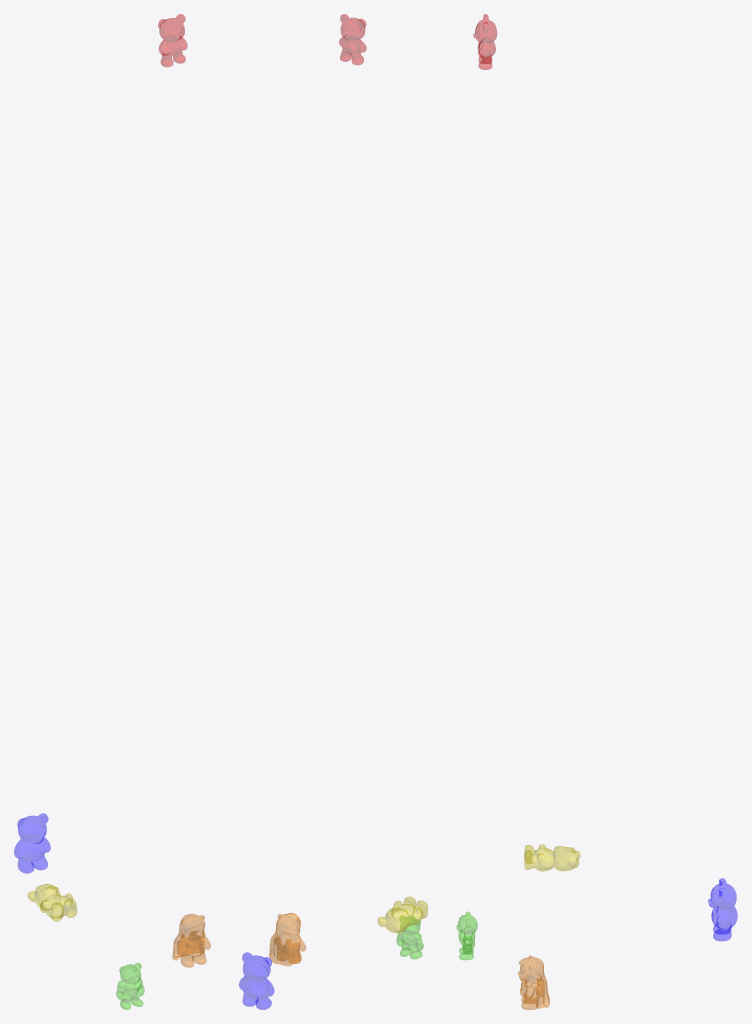
The model's file is asset.glb.
3 renders of one model, left to right at view 1: azimuth 30°, elevation 25°; view 2: azimuth 150°, elevation 25°; view 3: azimuth 270°, elevation 25°, orthographic. The views are drawn at different scales.
Parts seen in each view (by area): view 1: Mesh_0, Mesh_0.002, tmpcp9hpo9h.ply.001, tmp57nfg7_p.ply, Mesh_0.001; view 2: Mesh_0, Mesh_0.002, tmp57nfg7_p.ply, tmpcp9hpo9h.ply.001, Mesh_0.001; view 3: Mesh_0.002, Mesh_0, tmp57nfg7_p.ply, tmpcp9hpo9h.ply.001, Mesh_0.001.
Part boxes in pixels (x1,y1,x2,y2): Mesh_0: (14, 813, 50, 873); Mesh_0.002: (172, 914, 210, 967); tmpcp9hpo9h.ply.001: (158, 14, 187, 66); tmp57nfg7_p.ply: (28, 884, 76, 921); Mesh_0.001: (116, 963, 144, 1009); Mesh_0: (239, 952, 274, 1009); Mesh_0.002: (269, 913, 305, 965); tmp57nfg7_p.ply: (378, 897, 427, 932); tmpcp9hpo9h.ply.001: (339, 14, 366, 64); Mesh_0.001: (396, 915, 423, 959); Mesh_0.002: (518, 955, 549, 1009); Mesh_0: (708, 878, 737, 940); tmp57nfg7_p.ply: (524, 844, 579, 871); tmpcp9hpo9h.ply.001: (473, 14, 496, 69); Mesh_0.001: (456, 912, 477, 959).
Bounding box in the file's own units: 24.41 × 141 × 37.22.
